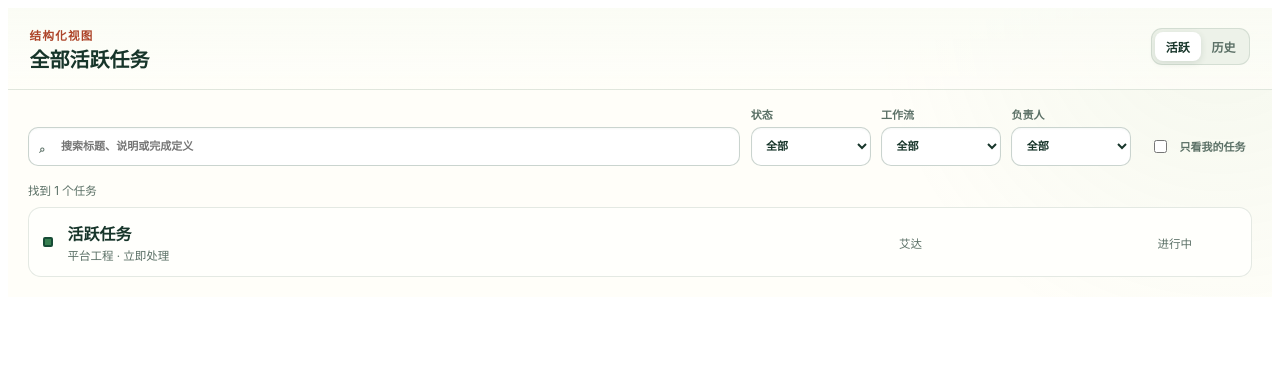
Test: TaskList › keeps terminal tasks out of the active list and exposes them in history
Check: the text "活跃任务" is shown, box x1=67 y1=224 x2=131 y2=244
Check: the text "已完成任务" is not shown
Click the button "历史". click: [1224, 47]
box: x1=1201 y1=32 x2=1246 y2=61
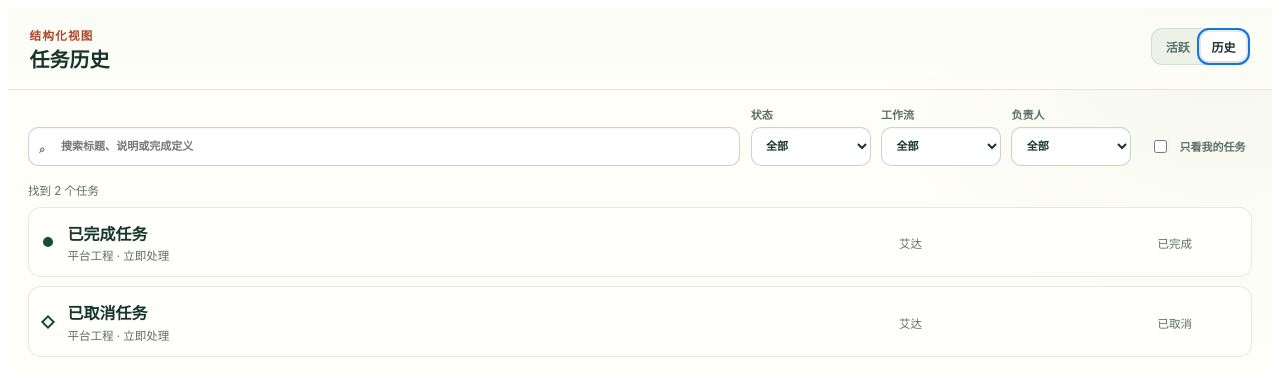
Check: the heading "活跃任务" is gone
Check: the text "已完成任务" is shown, box x1=67 y1=224 x2=147 y2=244
Check: the text "已取消任务" is shown, box x1=67 y1=303 x2=147 y2=323
